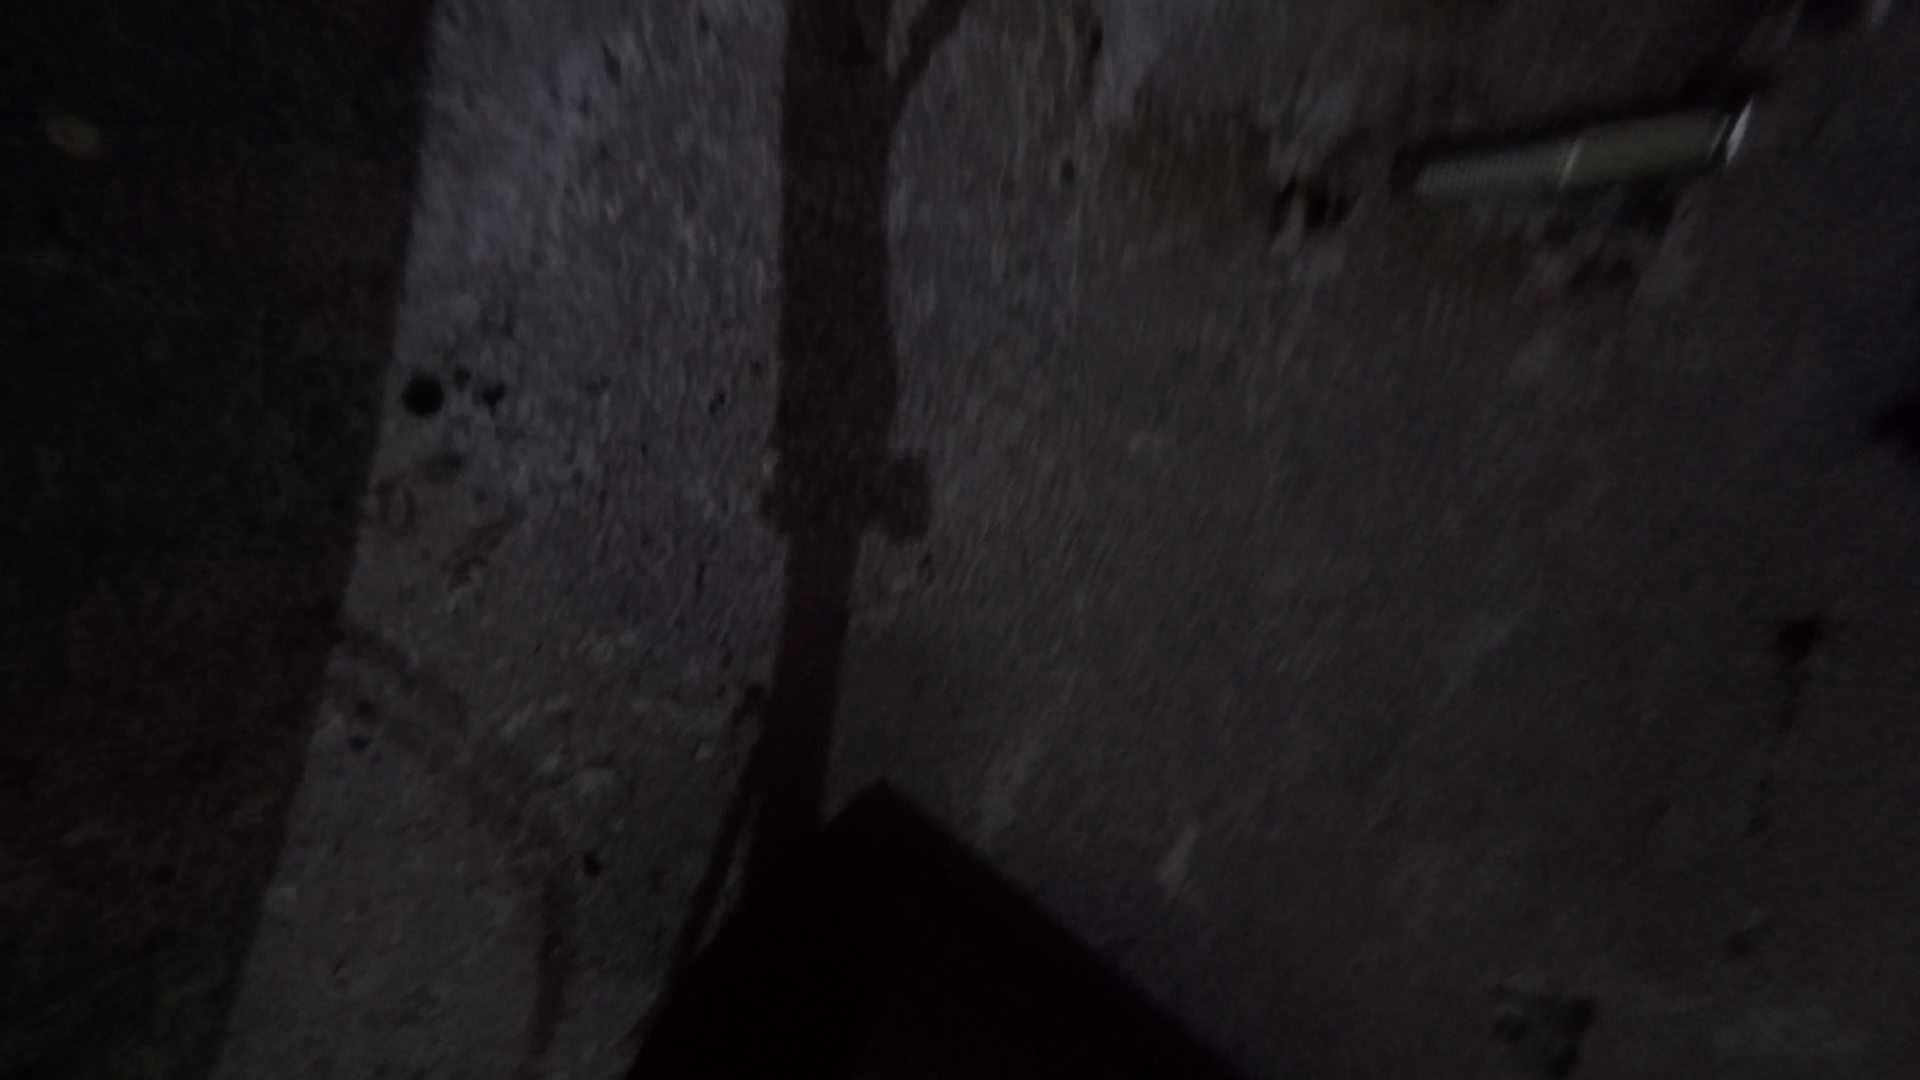bolt: (1389, 73, 1778, 208)
pipe: (621, 777, 1258, 1080)
